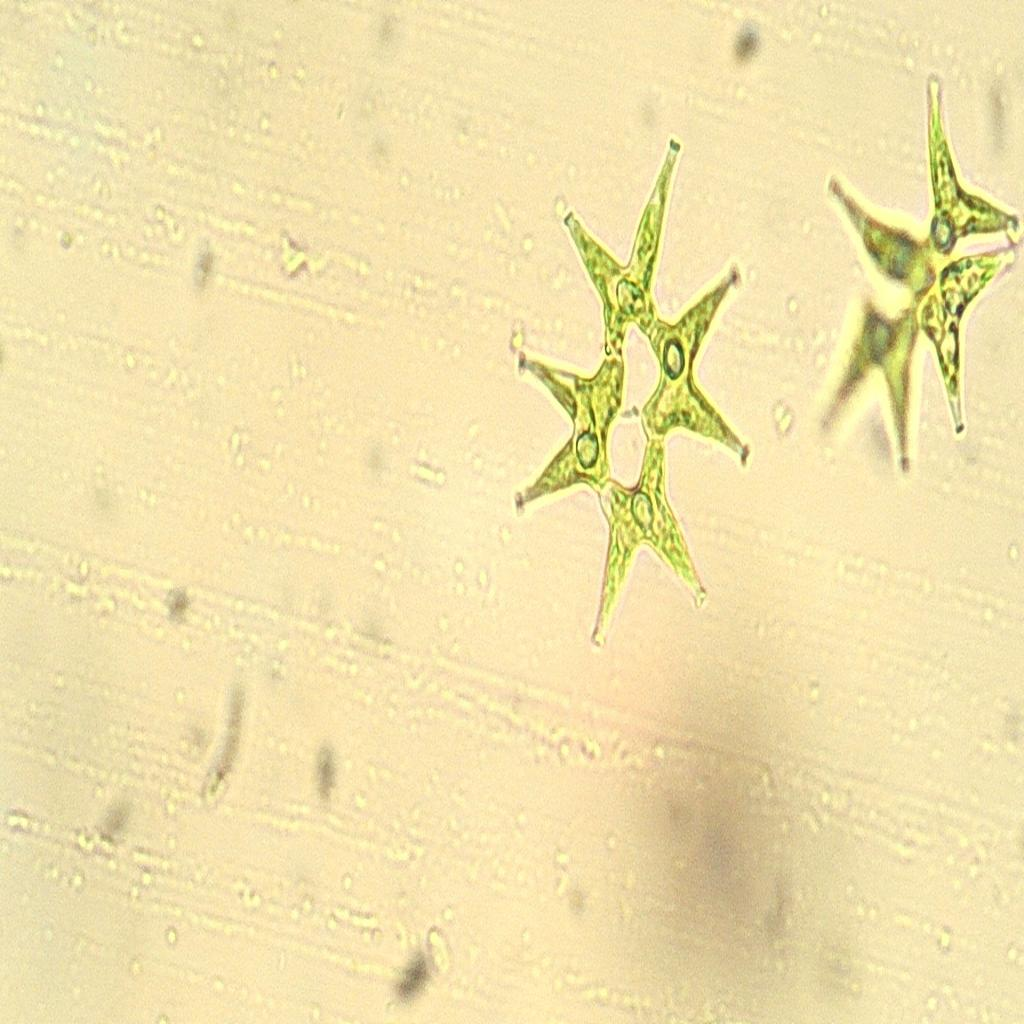Pediastrum_75FO: (495, 100, 786, 676)
